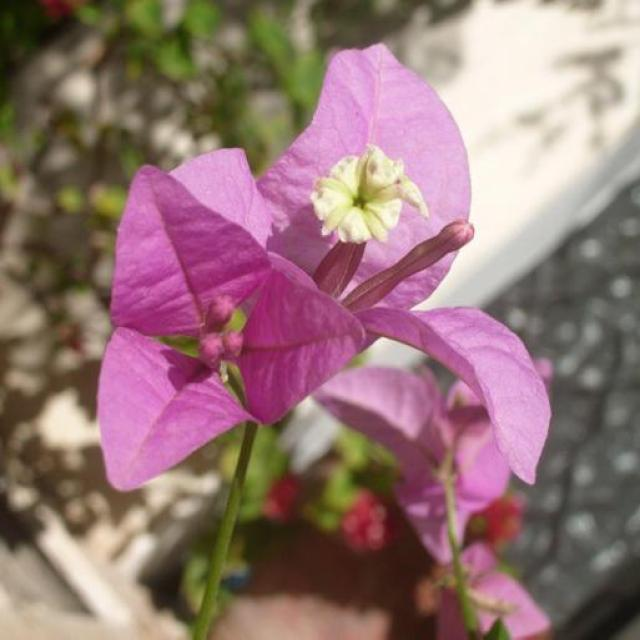bougainvillea: (68, 24, 602, 640)
